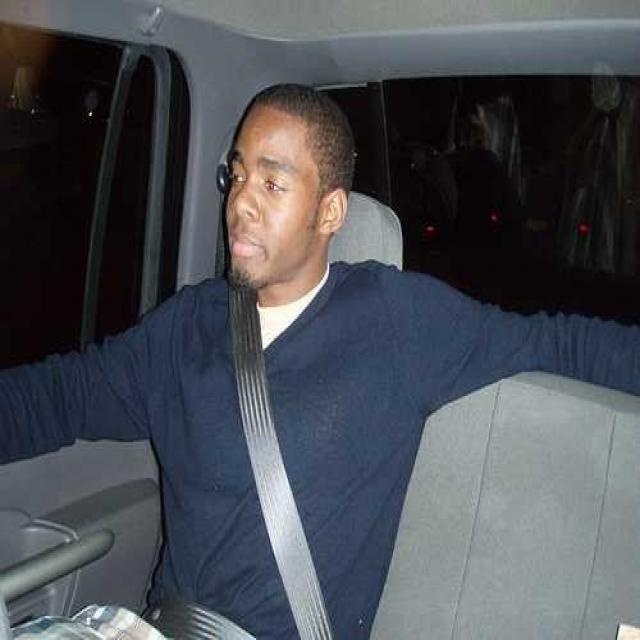seatbelt: (226, 203, 326, 620)
